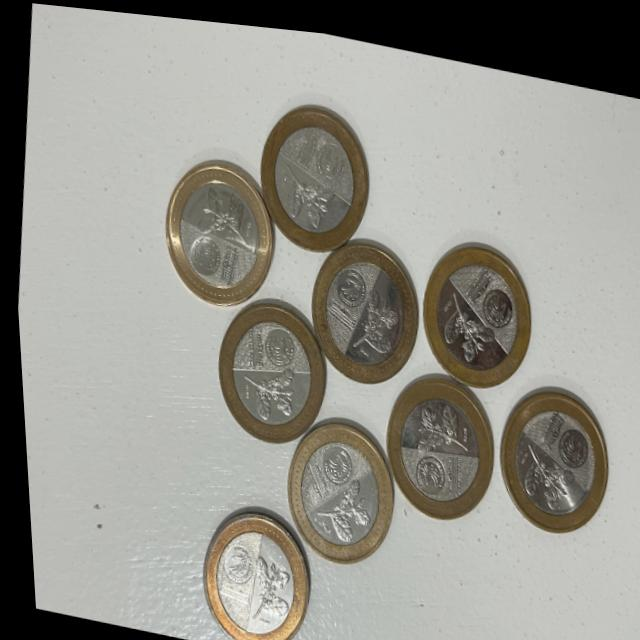20_New_Back: (188, 175, 250, 251), (512, 430, 571, 503), (346, 275, 399, 356), (233, 357, 297, 423), (404, 390, 471, 453), (276, 155, 335, 224), (307, 470, 366, 538), (439, 280, 492, 352), (242, 548, 289, 626)
